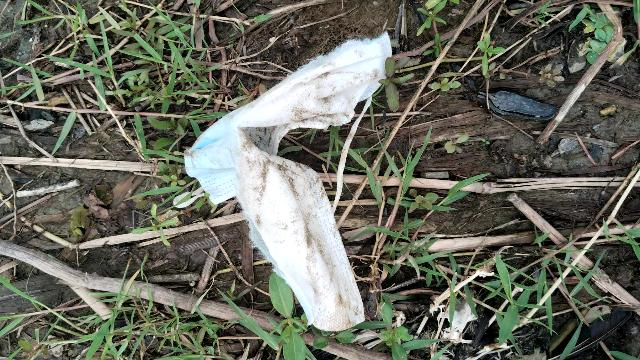mask: (142, 23, 439, 357)
